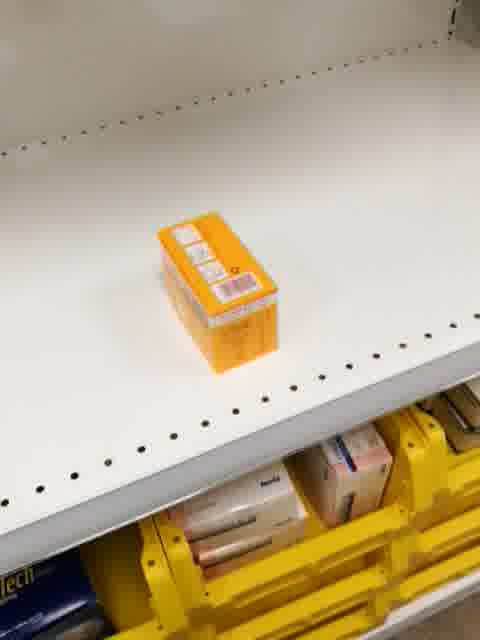jasminetea: (158, 207, 279, 375)
